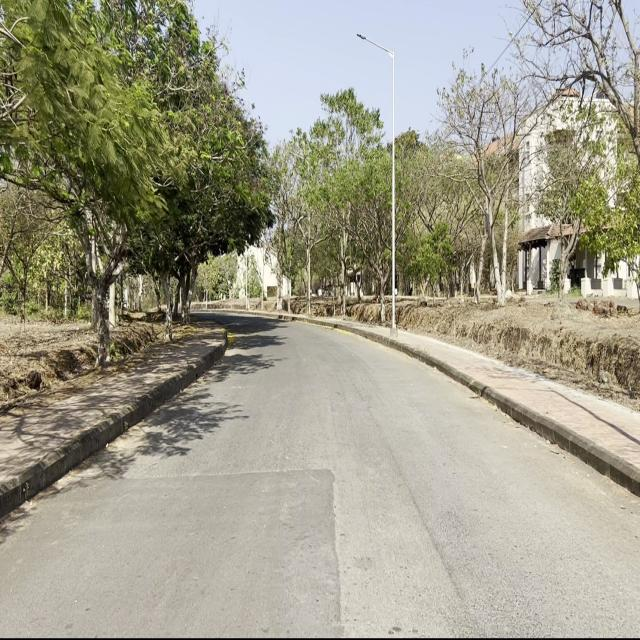Road: (3, 311, 637, 632)
